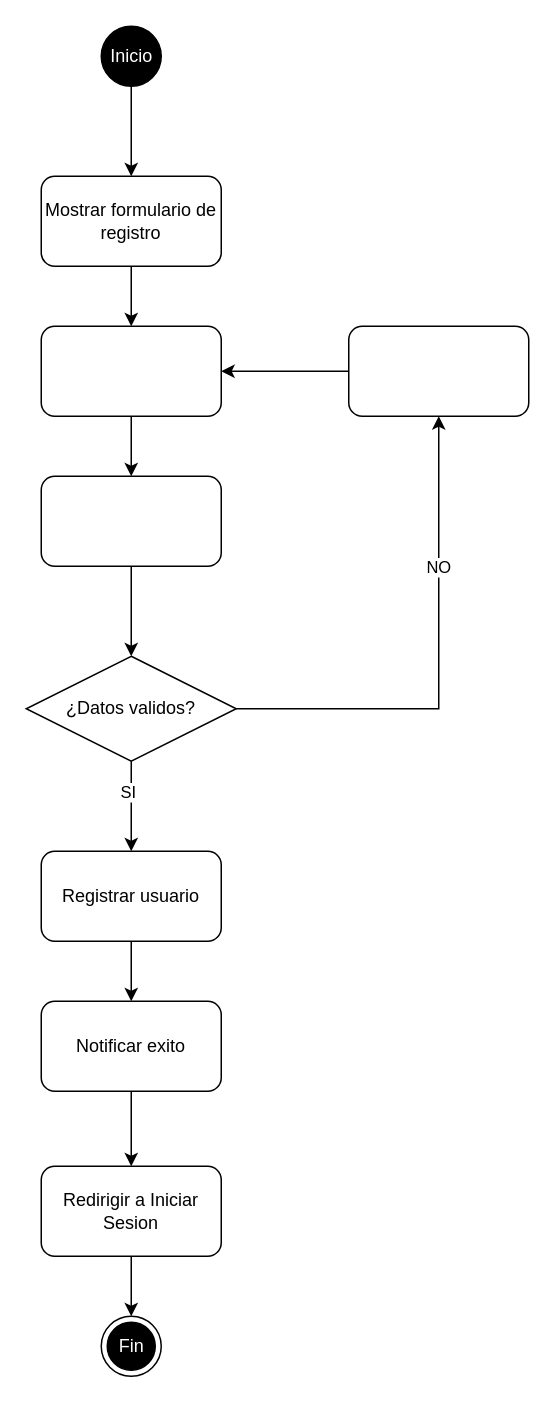
This 555x1403 diagram has some shape labels left out. The shapes that lost their labels are listed below. From the top down, each one's centre as x and y in pixels, then its label:
At pixel 130 370: "Completar campos requeridos".
At pixel 438 370: "Notificar errores".
At pixel 130 520: "Validar campos".
